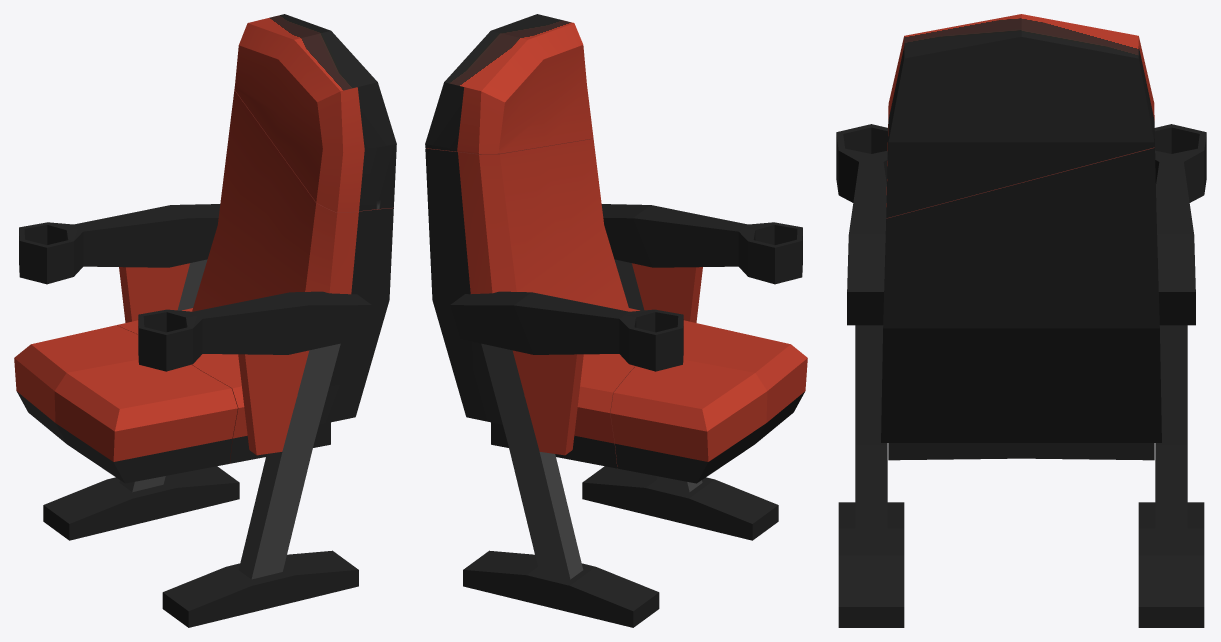
Rendered from Cinema_Chair_Dest.fbx.
The picture shows the model from 3 angles, left to right: view 1: azimuth 30°, elevation 25°; view 2: azimuth 150°, elevation 25°; view 3: azimuth 270°, elevation 25°; orthographic projection. The views are drawn at different scales.
Parts seen in each view (by area): view 1: polySurface1526.007_cell, polySurface1526.004_cell.001, polySurface1526.007_cell.001, polySurface1526.002, polySurface1526.006, polySurface1526.009, polySurface1526.005, polySurface1526.003, polySurface1526.010, polySurface1526.001, polySurface1526.004_cell, polySurface1526.008; view 2: polySurface1526.007_cell, polySurface1526.004_cell.001, polySurface1526.007_cell.001, polySurface1526.006, polySurface1526.002, polySurface1526.008, polySurface1526.003, polySurface1526.005, polySurface1526.001, polySurface1526.004_cell, polySurface1526.010, polySurface1526.009; view 3: polySurface1526.007_cell, polySurface1526.007_cell.001, polySurface1526.006, polySurface1526.002, polySurface1526.003, polySurface1526.005, polySurface1526.008, polySurface1526.009, polySurface1526.004_cell.
Boxes of the visible parts, box(x1,y1,x2,y2) form: polySurface1526.007_cell: box(192, 90, 393, 424); polySurface1526.004_cell.001: box(14, 325, 237, 483); polySurface1526.007_cell.001: box(234, 14, 396, 212); polySurface1526.002: box(138, 291, 371, 371); polySurface1526.006: box(19, 204, 220, 284); polySurface1526.009: box(238, 343, 340, 579); polySurface1526.005: box(162, 550, 358, 627); polySurface1526.003: box(43, 466, 239, 540); polySurface1526.010: box(238, 350, 309, 455); polySurface1526.001: box(119, 263, 189, 322); polySurface1526.004_cell: box(117, 308, 330, 463); polySurface1526.008: box(119, 259, 207, 492); polySurface1526.007_cell: box(425, 138, 629, 424); polySurface1526.004_cell.001: box(610, 320, 807, 483); polySurface1526.007_cell.001: box(425, 14, 593, 153); polySurface1526.006: box(450, 291, 683, 371); polySurface1526.002: box(601, 204, 802, 284); polySurface1526.008: box(481, 343, 583, 579); polySurface1526.003: box(463, 550, 659, 627); polySurface1526.005: box(582, 466, 778, 540); polySurface1526.001: box(512, 350, 583, 455); polySurface1526.004_cell: box(491, 308, 639, 468); polySurface1526.010: box(632, 263, 702, 322); polySurface1526.009: box(614, 259, 702, 492); polySurface1526.007_cell: box(881, 139, 1161, 442); polySurface1526.007_cell.001: box(886, 14, 1154, 218); polySurface1526.006: box(1154, 124, 1206, 325); polySurface1526.002: box(836, 124, 887, 325); polySurface1526.003: box(1138, 502, 1204, 627); polySurface1526.005: box(838, 502, 904, 627); polySurface1526.008: box(1155, 325, 1187, 551); polySurface1526.009: box(855, 325, 887, 551); polySurface1526.004_cell: box(888, 443, 1154, 460).
Size of the model in its own units: 155 by 252 by 137.
Materials: 2 (1 with a texture image).
